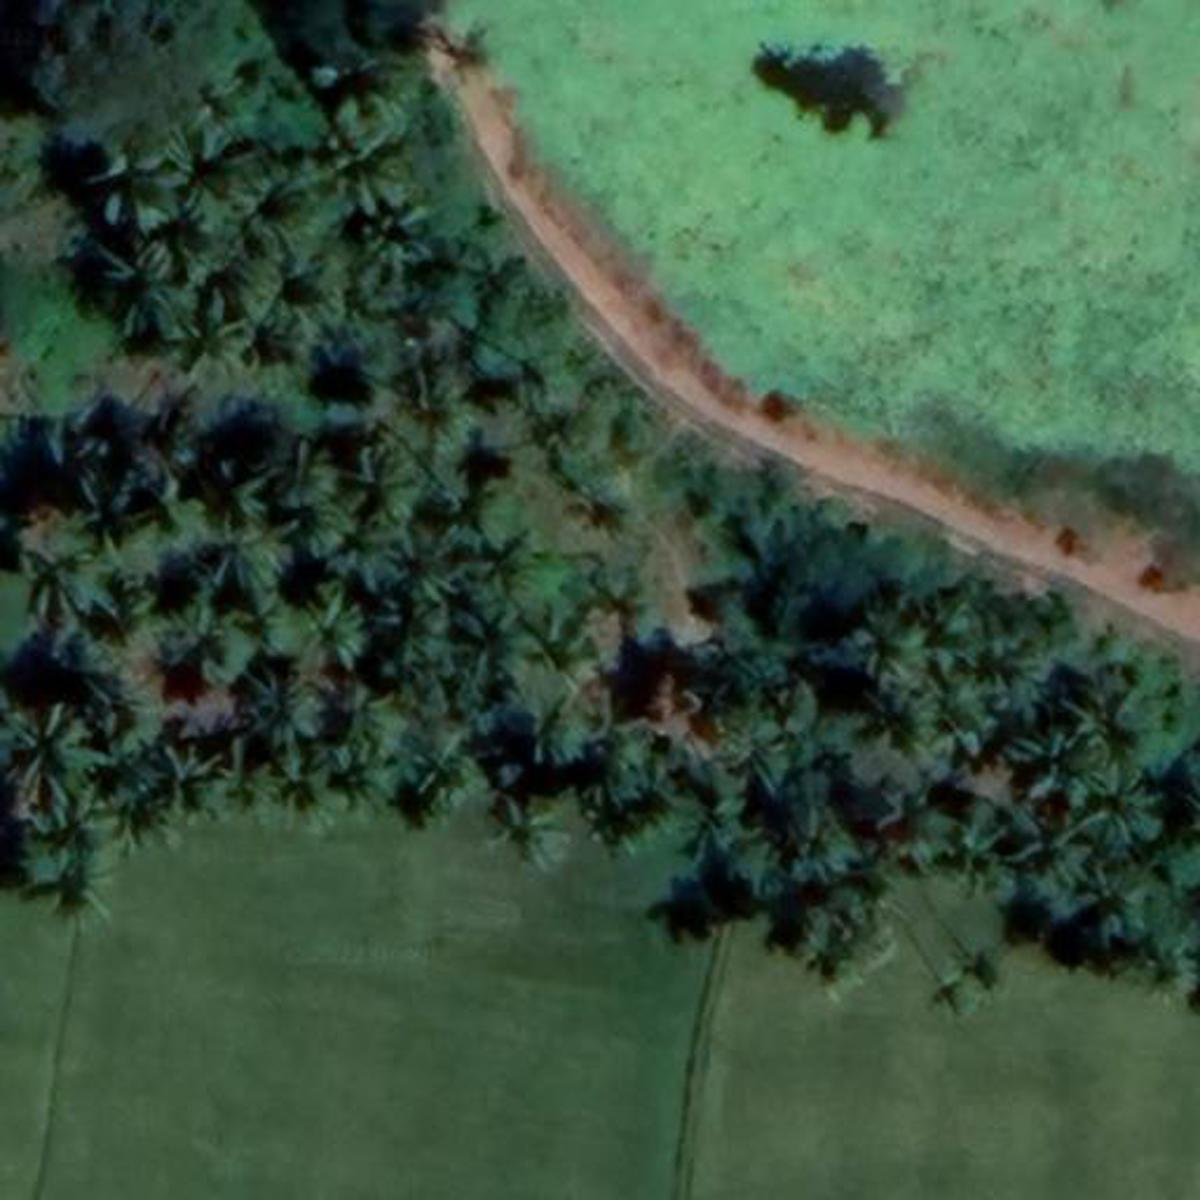coconut: (290, 98, 433, 232), (133, 597, 288, 700), (7, 691, 135, 815), (944, 588, 1071, 707), (227, 225, 351, 344), (745, 677, 878, 785), (53, 466, 187, 571), (311, 435, 447, 538), (637, 775, 762, 884), (998, 716, 1129, 816), (140, 119, 262, 225), (499, 670, 611, 782), (121, 740, 253, 834), (14, 843, 147, 935), (574, 726, 693, 827), (1003, 796, 1110, 909), (304, 679, 421, 782), (246, 724, 363, 822), (91, 243, 201, 346), (832, 607, 953, 700), (389, 353, 492, 462), (205, 496, 307, 602), (464, 529, 569, 627), (353, 199, 451, 300), (278, 581, 382, 675), (921, 808, 1024, 900), (311, 516, 426, 597), (25, 773, 124, 857), (482, 785, 567, 878)
